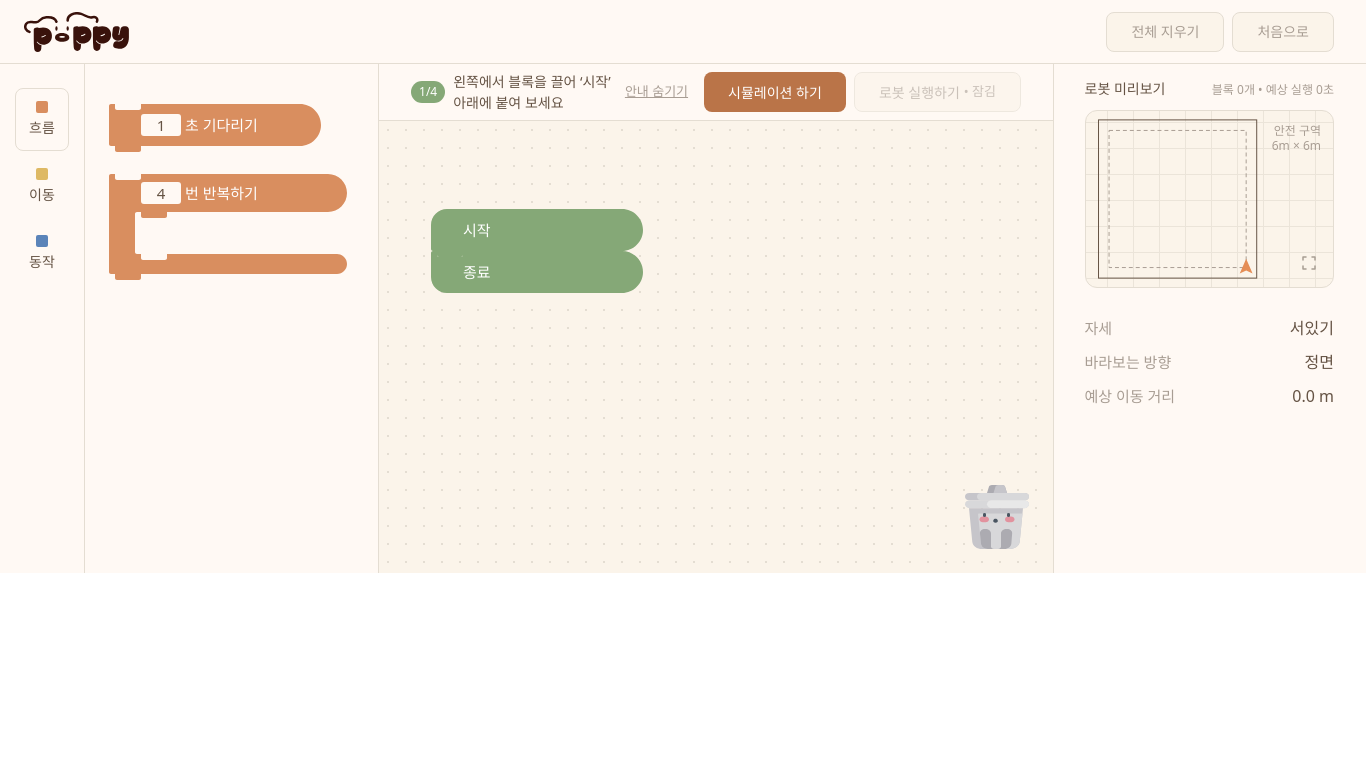
Scenario: 블록 삭제 — 쓰레기통 드래그 (기명서) › 감지 영역 밖에서 드롭하면 삭제하지 않고 자유 블록으로 남는다
The width and height of the screenshot is (1366, 768).
Step 1. Press the mouse on the button named "초 기다리기 블록 꺼내기" → (215, 128), box left=109, top=104, right=321, bottom=152
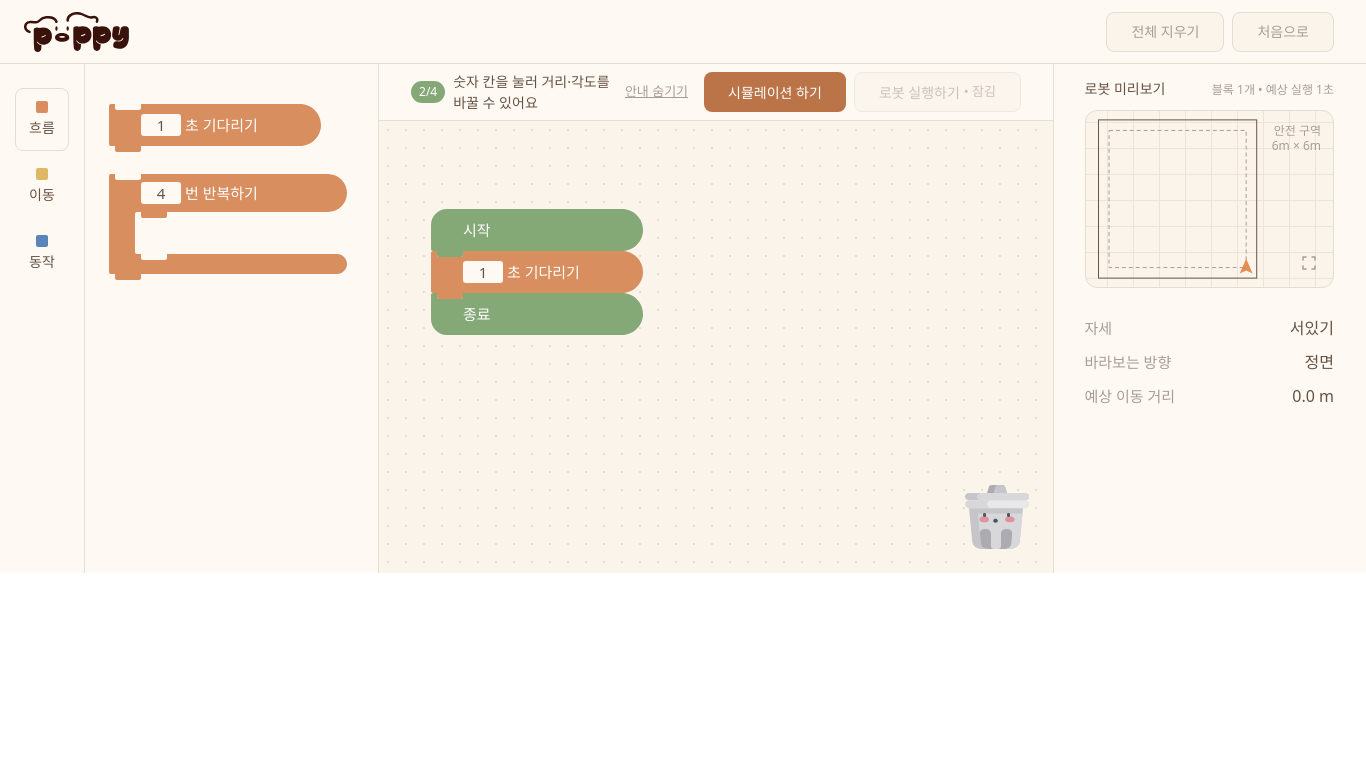
Step 2. Press the mouse on the list item "초 기다리기" → (537, 275), box left=431, top=251, right=643, bottom=299
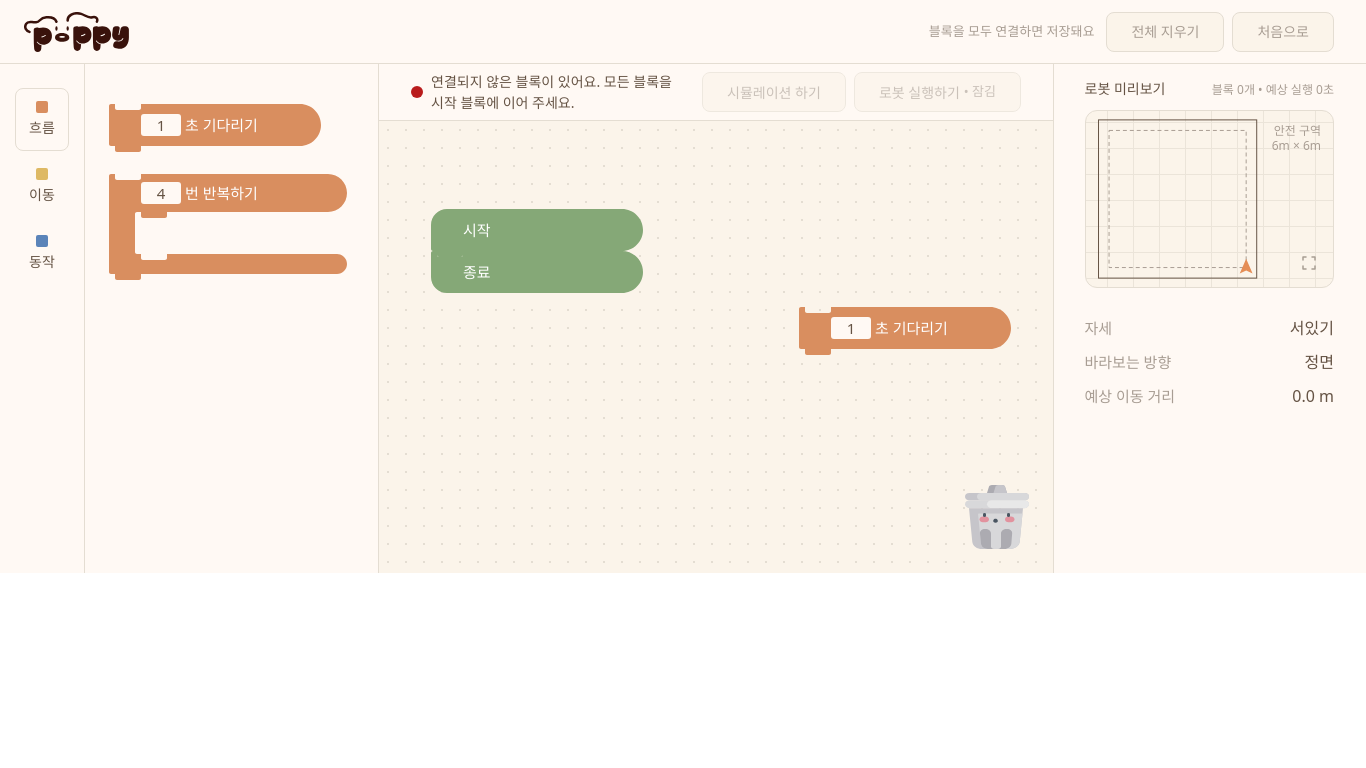
expect the text "초 기다리기" below "연결되지 않은 블록이 있어요. 모든 블록을 시작 블록에 이어 주세요." is shown: met, box left=875, top=318, right=948, bottom=338
